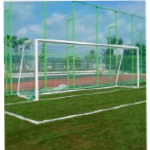goals: (16, 37, 141, 104)
